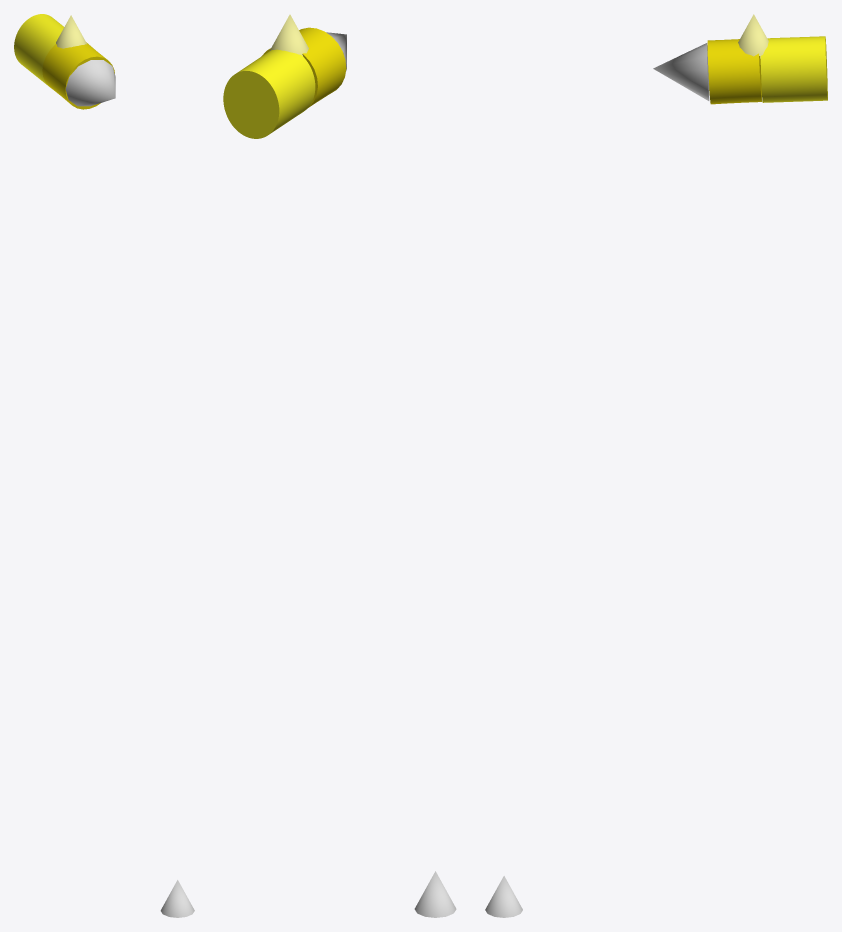
Rendered from rocket-fish.gltf.
The picture shows the model from 3 angles, left to right: view 1: azimuth 30°, elevation 25°; view 2: azimuth 150°, elevation 25°; view 3: azimuth 270°, elevation 25°; orthographic projection. The views are drawn at different scales.
Visible parts, largest first — view 1: Cylinder1, Cone2, Cylinder, Cone1, Cone; view 2: Cylinder1, Cylinder, Cone1, Cone; view 3: Cylinder1, Cylinder, Cone2, Cone1, Cone.
Boxes of the visible parts, box(x1,y1,x2,y2) form: Cylinder1: box(14, 14, 64, 85); Cone2: box(65, 60, 115, 106); Cylinder: box(42, 42, 114, 109); Cone1: box(160, 880, 194, 917); Cone: box(56, 15, 86, 48); Cylinder1: box(223, 49, 315, 138); Cylinder: box(261, 27, 346, 107); Cone1: box(414, 871, 456, 917); Cone: box(270, 14, 308, 55); Cylinder1: box(760, 36, 827, 102); Cylinder: box(707, 39, 761, 104); Cone2: box(653, 43, 709, 100); Cone1: box(485, 876, 522, 917); Cone: box(738, 14, 768, 56).
Bounding box in the file's own units: 1.68 × 26.05 × 9.
